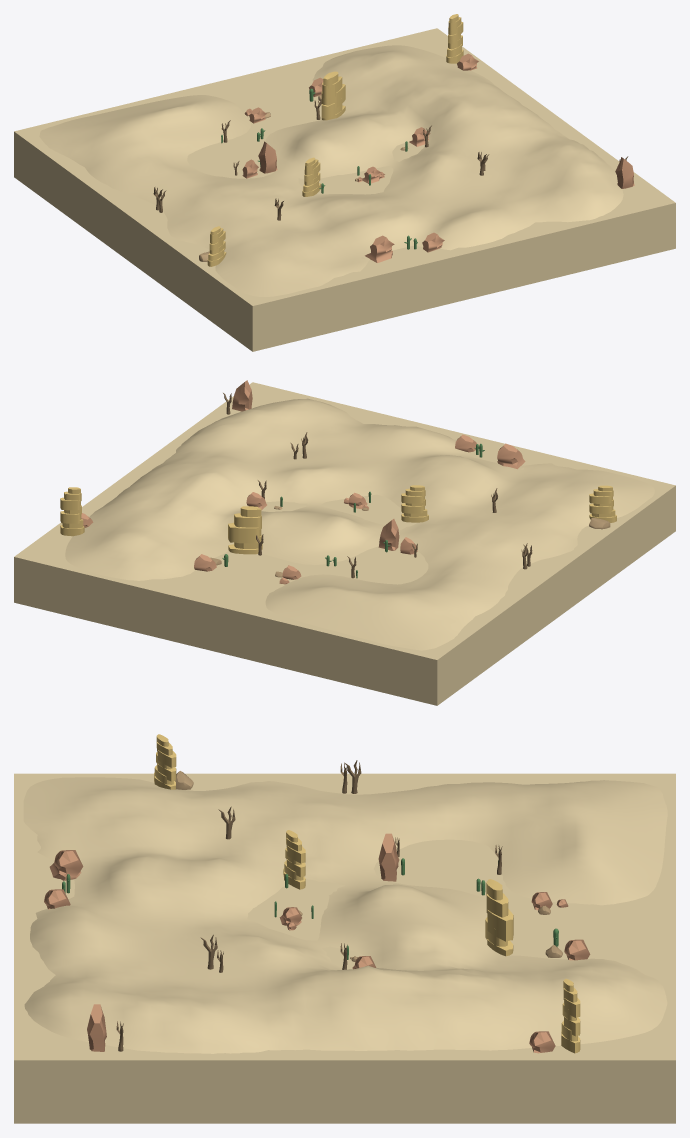
File: Desert Setting.fbx
The picture shows the model from 3 angles, top to bottom: view 1: azimuth 30°, elevation 25°; view 2: azimuth 150°, elevation 25°; view 3: azimuth 270°, elevation 25°; orthographic projection. The views are drawn at different scales.
Visible parts, largest first — view 1: pPlane1, pCube1, pCube27, pCube28, pCube26, pCube30, pCube25; view 2: pPlane1, pCube1, pCube27, pCube28, pCube26, pCube30, pCube25, pCube32; view 3: pPlane1, pCube1, pCube27, pCube28, pCube26, pCube30, pCube25, pCube2, pCube32.
Boxes of the visible parts, box(x1,y1,x2,y2) form: pPlane1: box(39, 45, 623, 296); pCube1: box(14, 28, 675, 351); pCube27: box(321, 71, 345, 120); pCube28: box(446, 14, 463, 63); pCube26: box(302, 157, 320, 196); pCube30: box(207, 226, 226, 266); pCube25: box(365, 235, 394, 262); pPlane1: box(65, 398, 654, 650); pCube1: box(14, 382, 675, 705); pCube27: box(228, 506, 262, 554); pCube28: box(60, 487, 84, 536); pCube26: box(401, 485, 428, 522); pCube30: box(589, 485, 616, 522); pCube25: box(497, 443, 525, 469); pCube32: box(232, 380, 252, 411); pPlane1: box(23, 777, 667, 1053); pCube1: box(14, 773, 675, 1123); pCube27: box(485, 879, 513, 956); pCube28: box(561, 978, 580, 1053); pCube26: box(283, 830, 305, 889); pCube30: box(154, 734, 176, 789); pCube25: box(49, 850, 83, 880); pCube2: box(378, 833, 398, 881); pCube32: box(87, 1004, 106, 1051).
Size of the model in its own units: 378 by 77.78 by 369.
